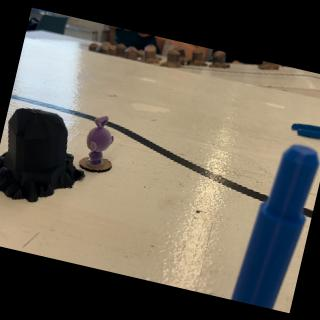teletubby: (86, 116, 113, 164)
